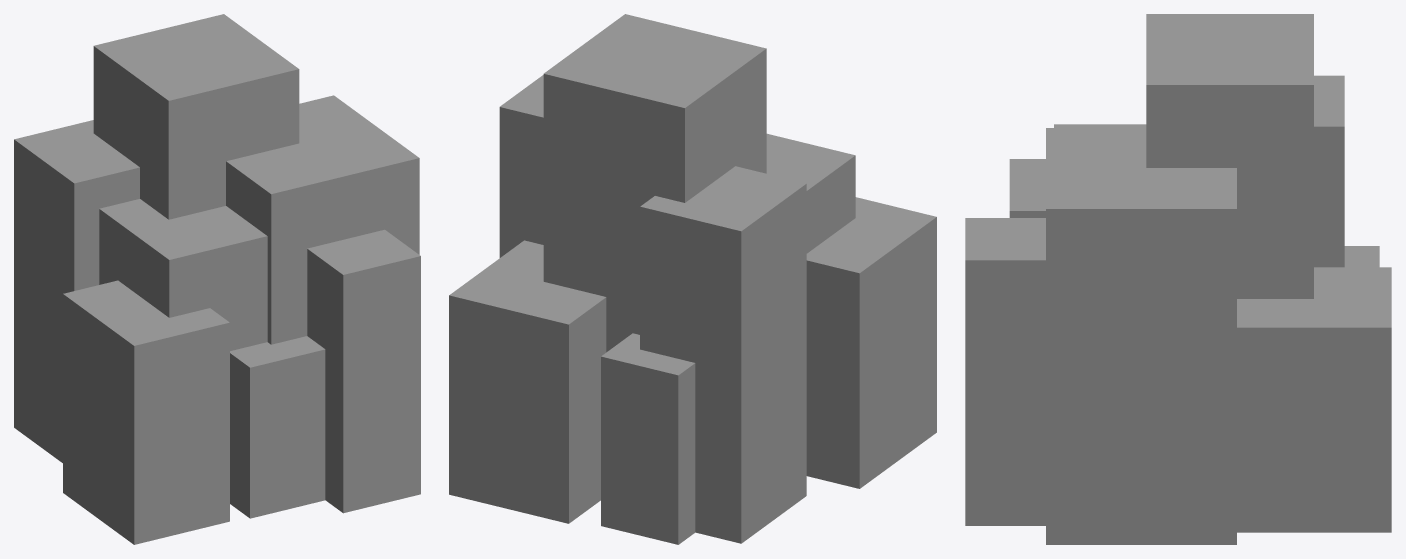
Rendered from SaltA.fbx.
The picture shows the model from 3 angles, left to right: view 1: azimuth 30°, elevation 25°; view 2: azimuth 150°, elevation 25°; view 3: azimuth 270°, elevation 25°; orthographic projection. The views are drawn at different scales.
Parts seen in each view (by area): view 1: SaltA; view 2: SaltA; view 3: SaltA.
Part boxes in pixels (x1=…): SaltA: x1=14, y1=14, x2=420, y2=544; SaltA: x1=449, y1=14, x2=936, y2=544; SaltA: x1=965, y1=14, x2=1391, y2=544.
Bounding box in the file's own units: 30.15 × 35.9 × 33.07.
